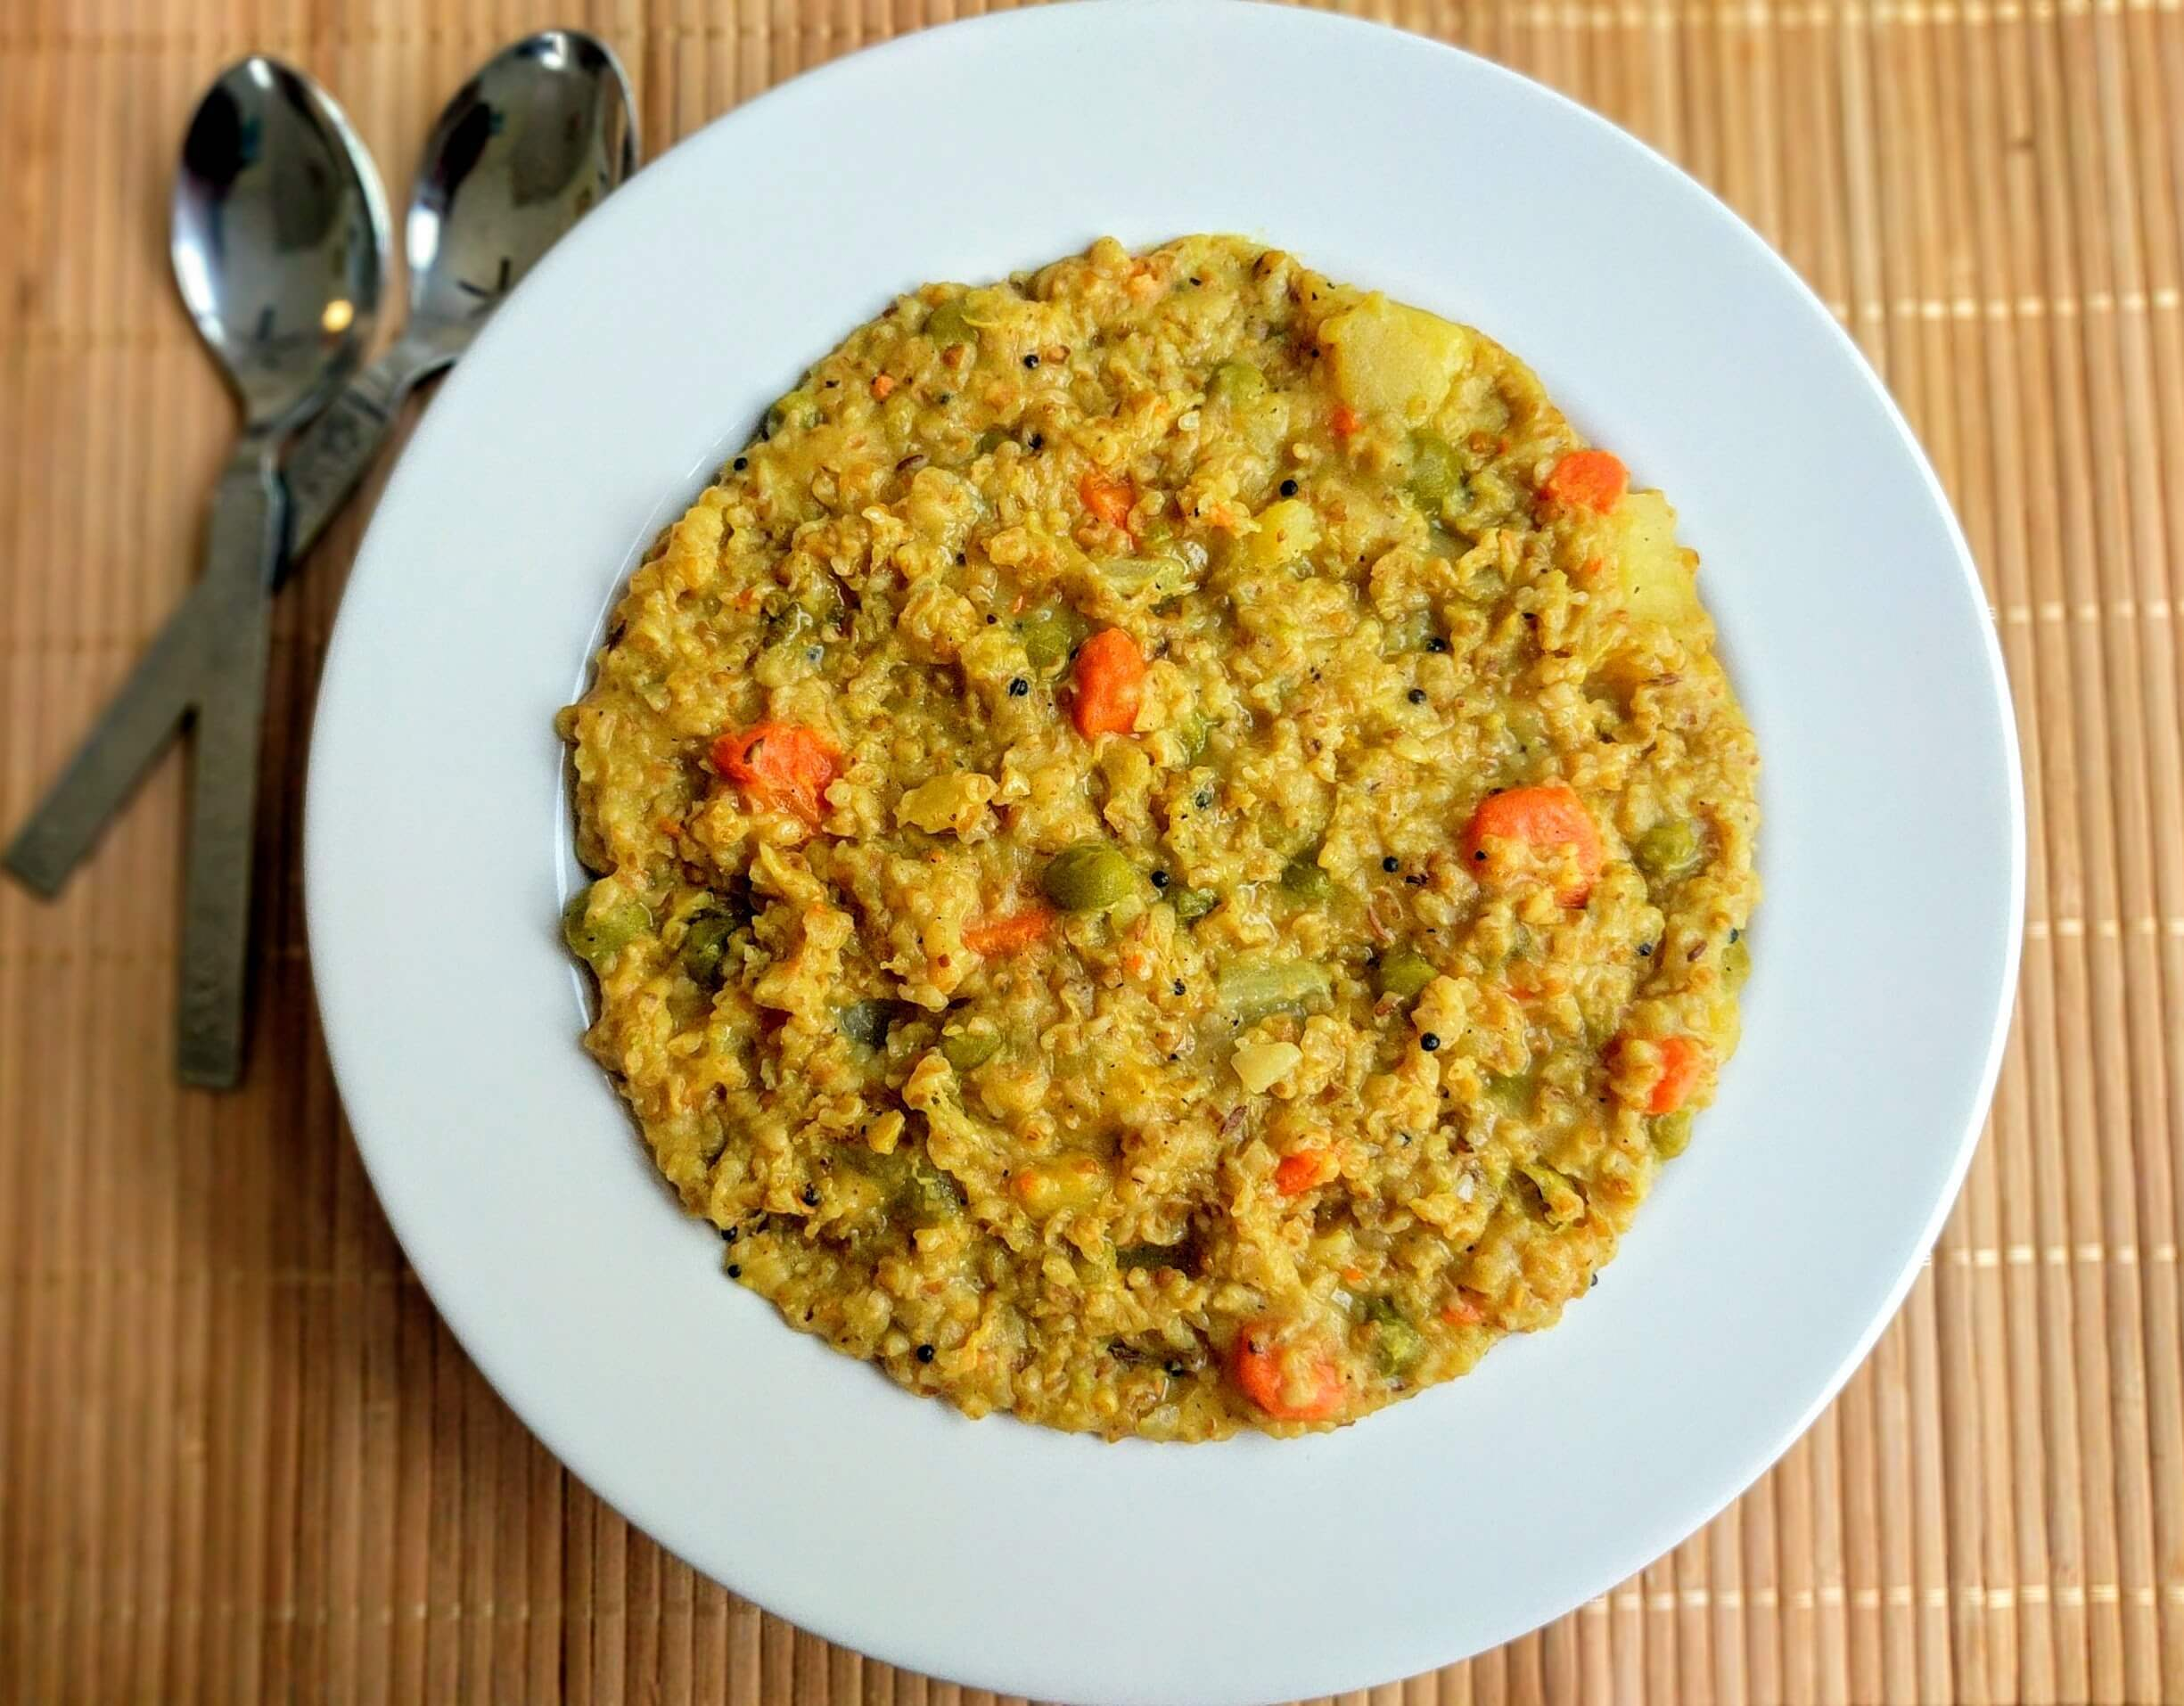khichuri: (583, 232, 1767, 1433)
